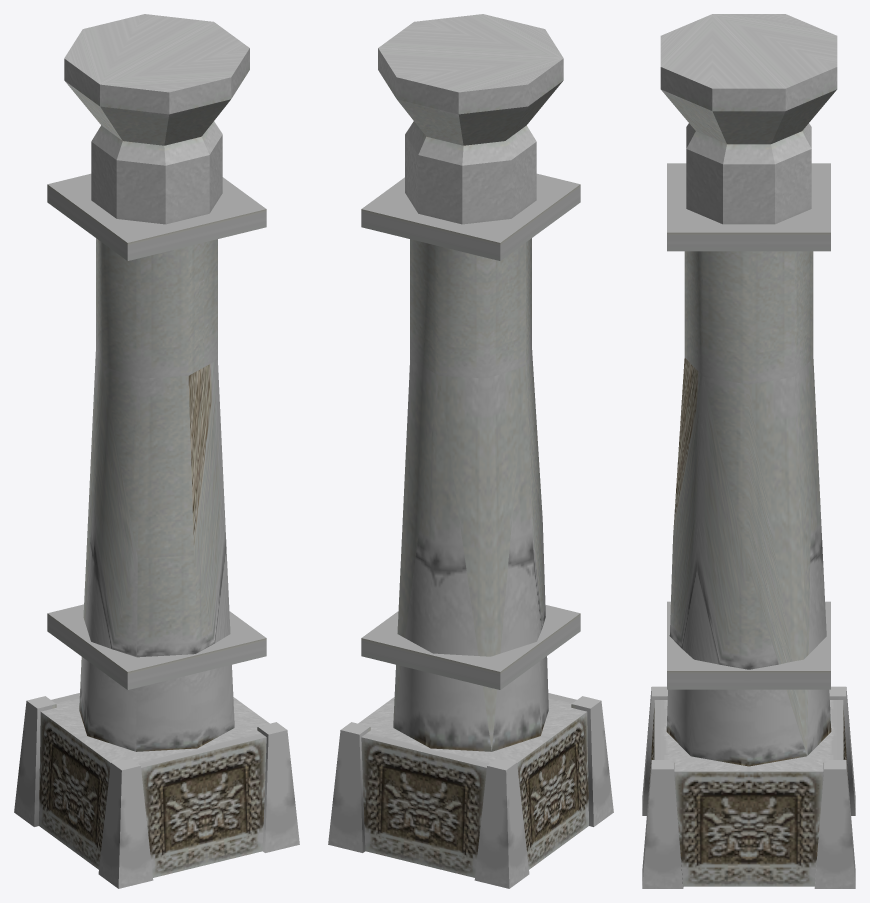
Rendered from general_obj_bigtower03_lod_01.fbx.
The picture shows the model from 3 angles, left to right: view 1: azimuth 30°, elevation 25°; view 2: azimuth 150°, elevation 25°; view 3: azimuth 270°, elevation 25°; orthographic projection. The views are drawn at different scales.
Parts seen in each view (by area): view 1: Sphere01; view 2: Sphere01; view 3: Sphere01.
Boxes of the visible parts, bbox=[...] form: Sphere01: bbox=[14, 14, 299, 888]; Sphere01: bbox=[328, 14, 613, 888]; Sphere01: bbox=[642, 14, 855, 888].
Bounding box in the file's own units: 5.22 × 21.33 × 5.21.
